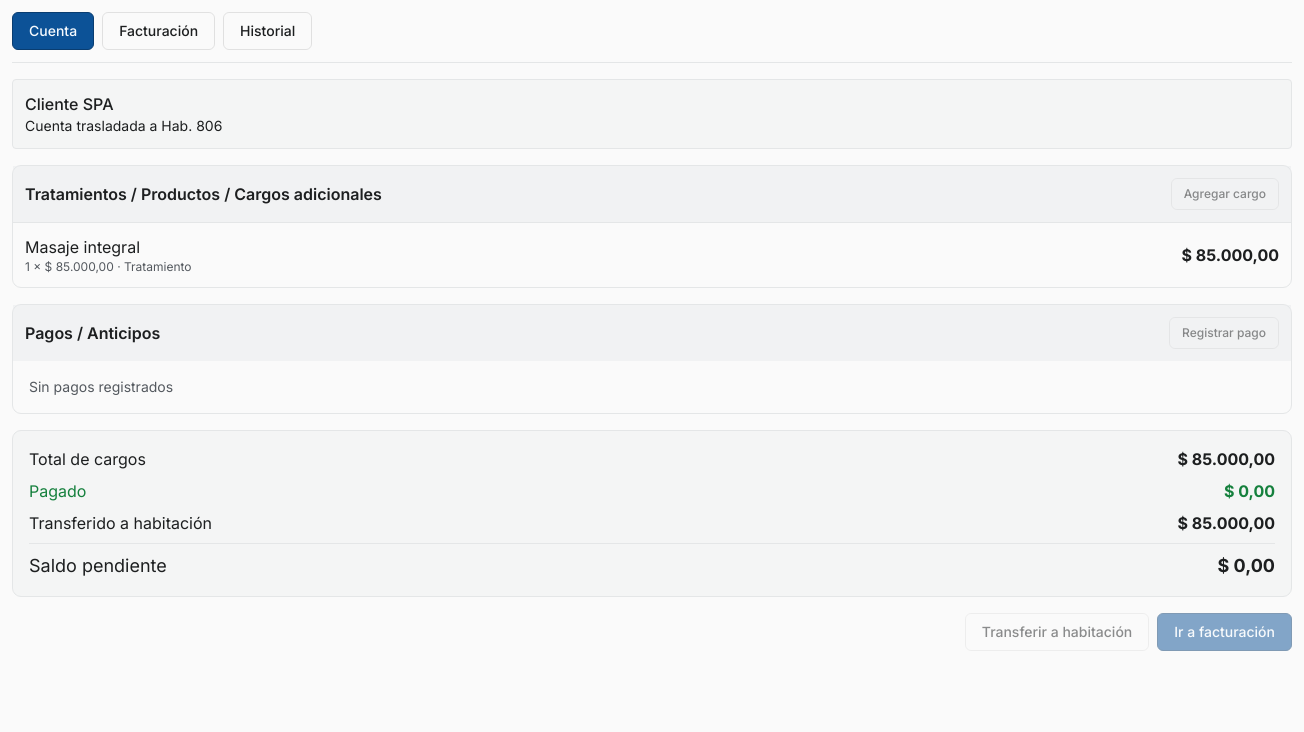
transferred account shows its room and zero balance and does not expose billing again
The image size is (1304, 732).
Expected: the text "Cuenta trasladada a Hab. 806" is shown, [25,117,222,134]
Expected: the button "Ir a facturación" is disabled, [1157,613,1292,651]
Step 1. Click the tab "Facturación" → coordinates (159, 31), box [102,12,215,50]
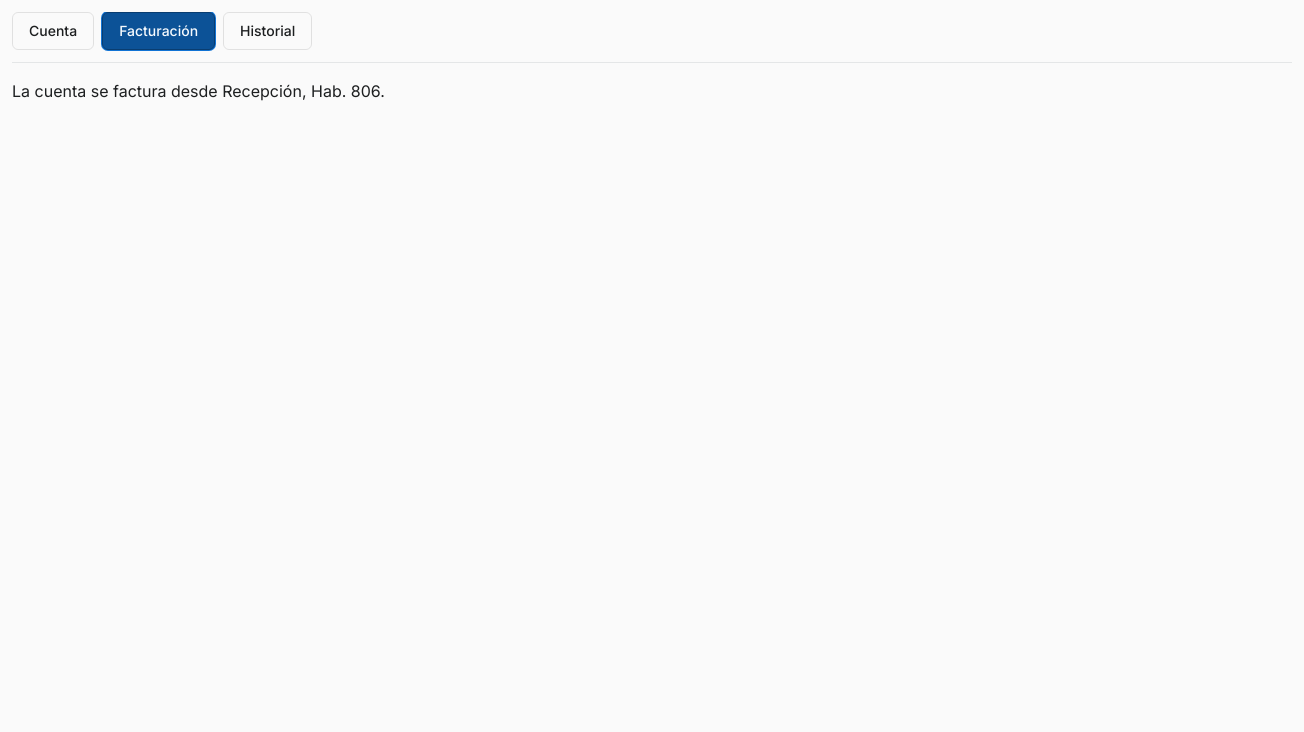
Result: the text "La cuenta se factura desde Recepción, Hab. 806." is shown at [12,81,385,101]
